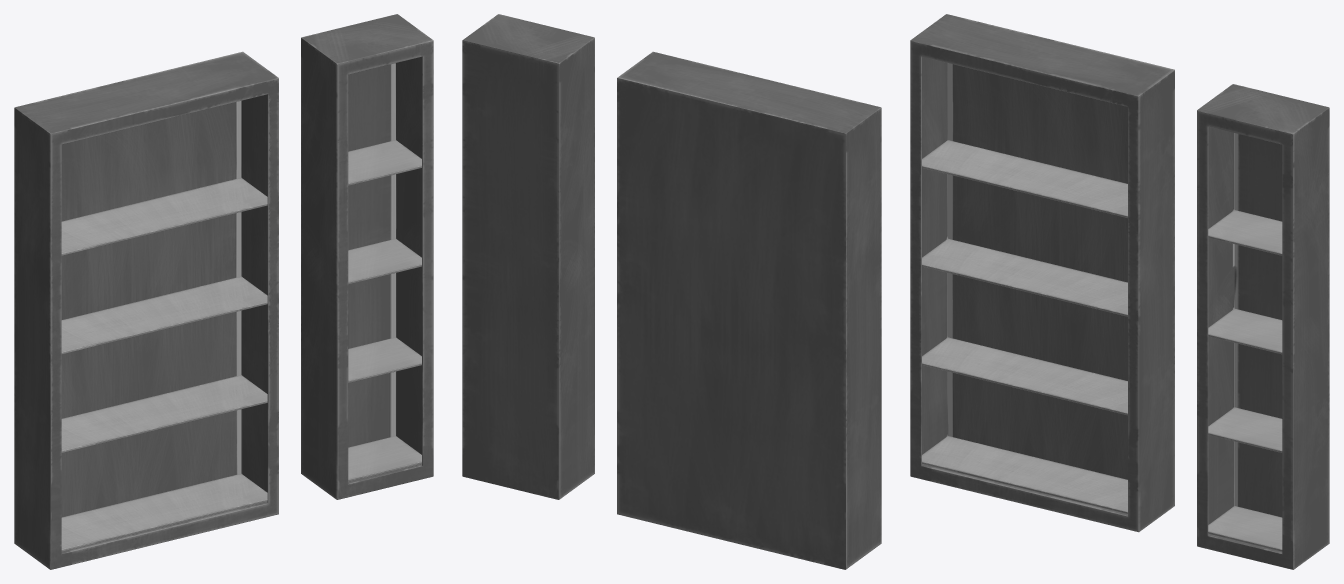
Rendered from metal_shelves.glb.
The picture shows the model from 3 angles, left to right: view 1: azimuth 30°, elevation 25°; view 2: azimuth 150°, elevation 25°; view 3: azimuth 330°, elevation 25°; orthographic projection.
Visible parts, largest first — view 1: FrameBig_Low, FrameSmall_Low, ShelfBig3_Low, ShelfBig4_Low, ShelfBig2_Low, ShelfBig1_Low, ShelfSmall4_Low, ShelfSmall1_Low, ShelfSmall2_Low, ShelfSmall3_Low; view 2: FrameBig_Low, FrameSmall_Low; view 3: FrameBig_Low, FrameSmall_Low, ShelfBig1_Low, ShelfBig2_Low, ShelfBig3_Low, ShelfBig4_Low, ShelfSmall4_Low, ShelfSmall1_Low, ShelfSmall2_Low, ShelfSmall3_Low.
Boxes of the visible parts, <box> form: FrameBig_Low: <box>14,51,278,569</box>; FrameSmall_Low: <box>301,14,433,499</box>; ShelfBig3_Low: <box>61,276,267,354</box>; ShelfBig4_Low: <box>61,177,267,255</box>; ShelfBig2_Low: <box>61,375,267,452</box>; ShelfBig1_Low: <box>61,473,267,551</box>; ShelfSmall4_Low: <box>348,140,421,185</box>; ShelfSmall1_Low: <box>348,436,421,481</box>; ShelfSmall2_Low: <box>348,337,421,382</box>; ShelfSmall3_Low: <box>348,238,421,284</box>; FrameBig_Low: <box>617,51,881,569</box>; FrameSmall_Low: <box>462,14,594,499</box>; FrameBig_Low: <box>910,14,1174,532</box>; FrameSmall_Low: <box>1197,84,1329,569</box>; ShelfBig1_Low: <box>922,436,1127,513</box>; ShelfBig2_Low: <box>922,337,1127,415</box>; ShelfBig3_Low: <box>922,238,1127,316</box>; ShelfBig4_Low: <box>922,140,1127,217</box>; ShelfSmall4_Low: <box>1208,210,1282,255</box>; ShelfSmall1_Low: <box>1208,506,1282,551</box>; ShelfSmall2_Low: <box>1208,407,1282,452</box>; ShelfSmall3_Low: <box>1208,308,1282,354</box>.
Bounding box in the file's own units: 2.03 × 2.21 × 0.332.
1 material, 1 textured.
